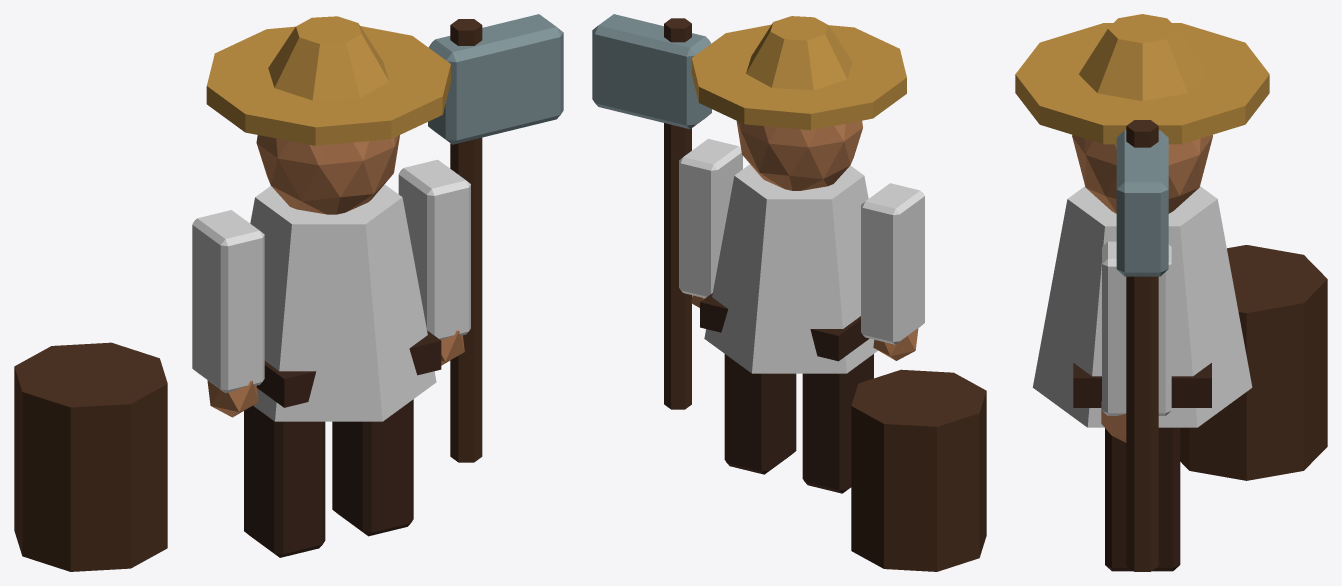
The model's file is lumberjack.glb.
3 renders of one model, left to right at view 1: azimuth 30°, elevation 25°; view 2: azimuth 150°, elevation 25°; view 3: azimuth 270°, elevation 25°, orthographic. The views are drawn at different scales.
Parts seen in each view (by area): view 1: lumberjack; view 2: lumberjack; view 3: lumberjack.
Boxes of the visible parts, x1,y1,x2,y2 form: lumberjack: [14, 14, 563, 571]; lumberjack: [592, 14, 986, 571]; lumberjack: [1015, 14, 1327, 571].
Bounding box in the file's own units: 0.49 × 0.4875 × 0.27.
